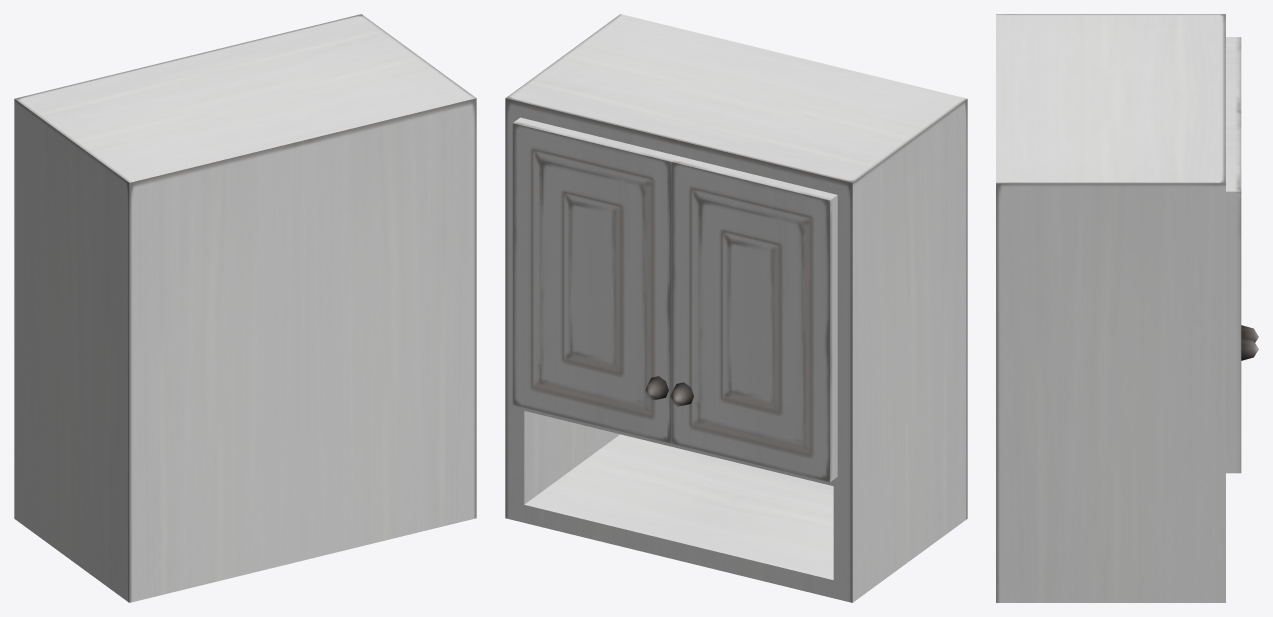
The model's file is FUR0110013.fbx.
3 renders of one model, left to right at view 1: azimuth 30°, elevation 25°; view 2: azimuth 150°, elevation 25°; view 3: azimuth 270°, elevation 25°, orthographic.
Visible parts, largest first — view 1: smFUR0110013; view 2: smFUR0110013; view 3: smFUR0110013.
Part boxes in pixels (bbox=[...]): smFUR0110013: bbox=[14, 14, 476, 602]; smFUR0110013: bbox=[505, 14, 967, 602]; smFUR0110013: bbox=[996, 14, 1258, 602].
Size of the model in its own units: 84.64 by 97.85 by 55.55.
Materials: 1 (1 with a texture image).
